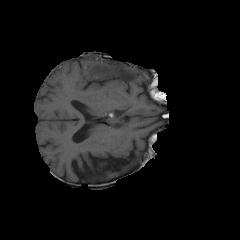glioma: (87, 58, 161, 100)
